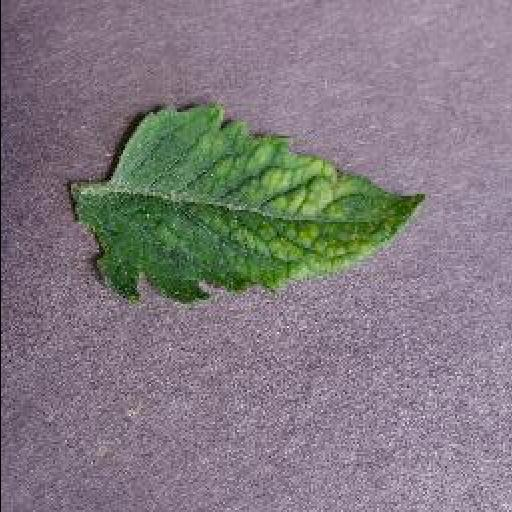disease_tomato: (88, 102, 426, 308)
